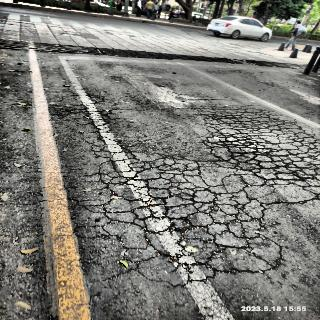alligator-crack: (85, 152, 318, 285), (181, 104, 318, 150), (63, 91, 147, 150)
